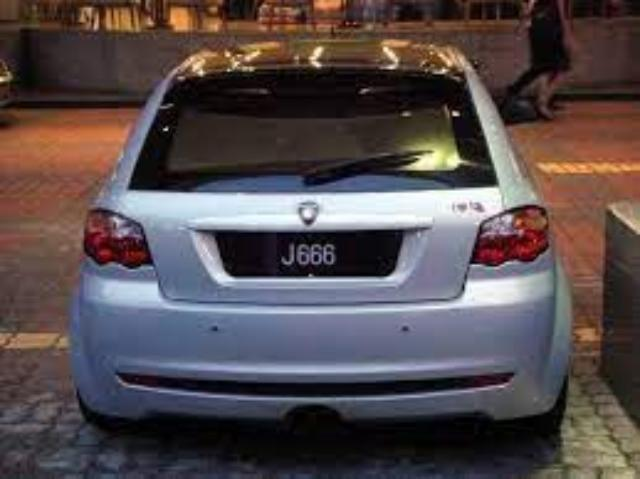License_Plate: (216, 214, 403, 324)
